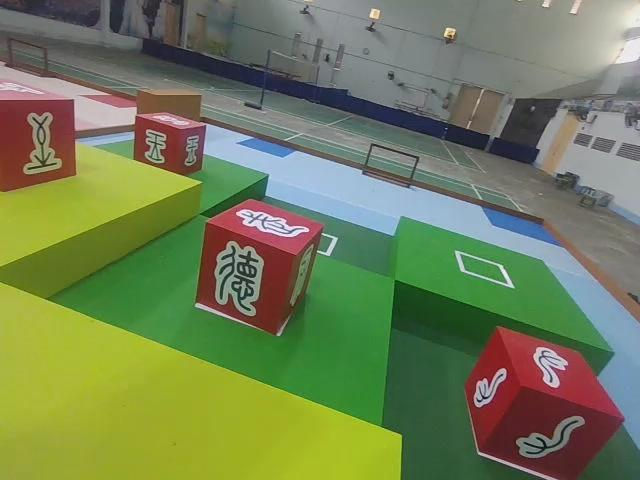R2 Fake: (192, 194, 325, 335)
R2 Real: (459, 322, 627, 480), (0, 77, 81, 196), (130, 108, 208, 178)
